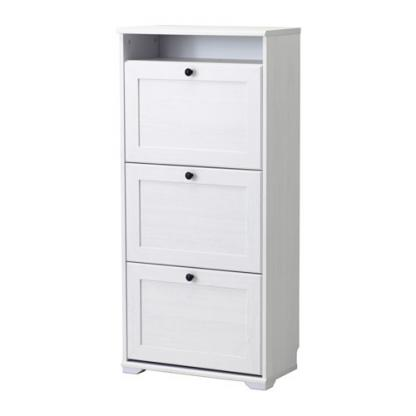Cabinet: (115, 21, 305, 393)
